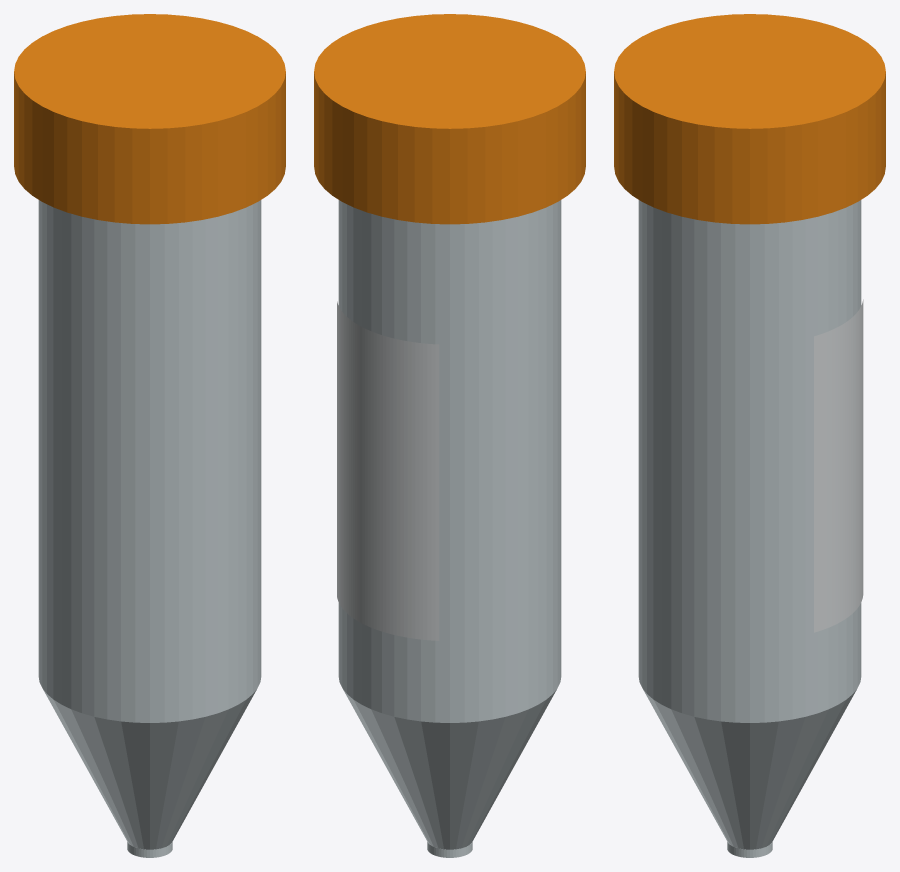
File: reagent_tube_black_01.glb
3 views of the same model, side by side, from view 1: azimuth 30°, elevation 25°; view 2: azimuth 150°, elevation 25°; view 3: azimuth 270°, elevation 25° (orthographic).
Visible parts, largest first — view 1: World_Lab_reagent_tube_black_01_CleanTube, World_Lab_reagent_tube_black_01_CleanCap; view 2: World_Lab_reagent_tube_black_01_CleanTube, World_Lab_reagent_tube_black_01_CleanCap, World_Lab_reagent_tube_black_01_AppearanceBand; view 3: World_Lab_reagent_tube_black_01_CleanTube, World_Lab_reagent_tube_black_01_CleanCap, World_Lab_reagent_tube_black_01_AppearanceBand.
Boxes of the visible parts, bbox=[...] form: World_Lab_reagent_tube_black_01_CleanTube: bbox=[38, 200, 261, 857]; World_Lab_reagent_tube_black_01_CleanCap: bbox=[14, 14, 285, 224]; World_Lab_reagent_tube_black_01_CleanTube: bbox=[338, 200, 561, 857]; World_Lab_reagent_tube_black_01_CleanCap: bbox=[314, 14, 585, 224]; World_Lab_reagent_tube_black_01_AppearanceBand: bbox=[337, 301, 439, 640]; World_Lab_reagent_tube_black_01_CleanTube: bbox=[638, 200, 861, 857]; World_Lab_reagent_tube_black_01_CleanCap: bbox=[614, 14, 885, 224]; World_Lab_reagent_tube_black_01_AppearanceBand: bbox=[814, 299, 863, 632].
Bounding box in the file's own units: 0.0357 × 0.1127 × 0.0357.
